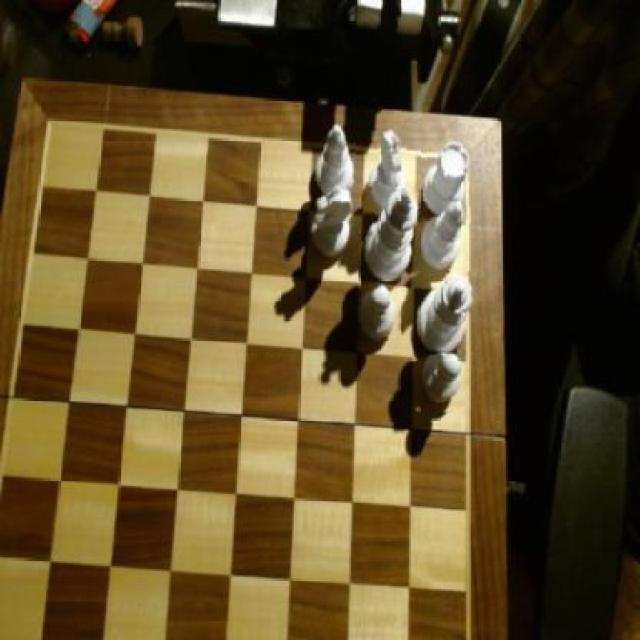black-rook: (420, 202, 468, 272), (314, 124, 357, 194)
white-bishop: (362, 189, 423, 288)
white-king: (371, 128, 411, 210), (314, 188, 355, 260)
white-knight: (358, 280, 402, 342), (423, 354, 466, 414)
white-pawn: (417, 274, 475, 355)
white-queen: (422, 139, 473, 226)
